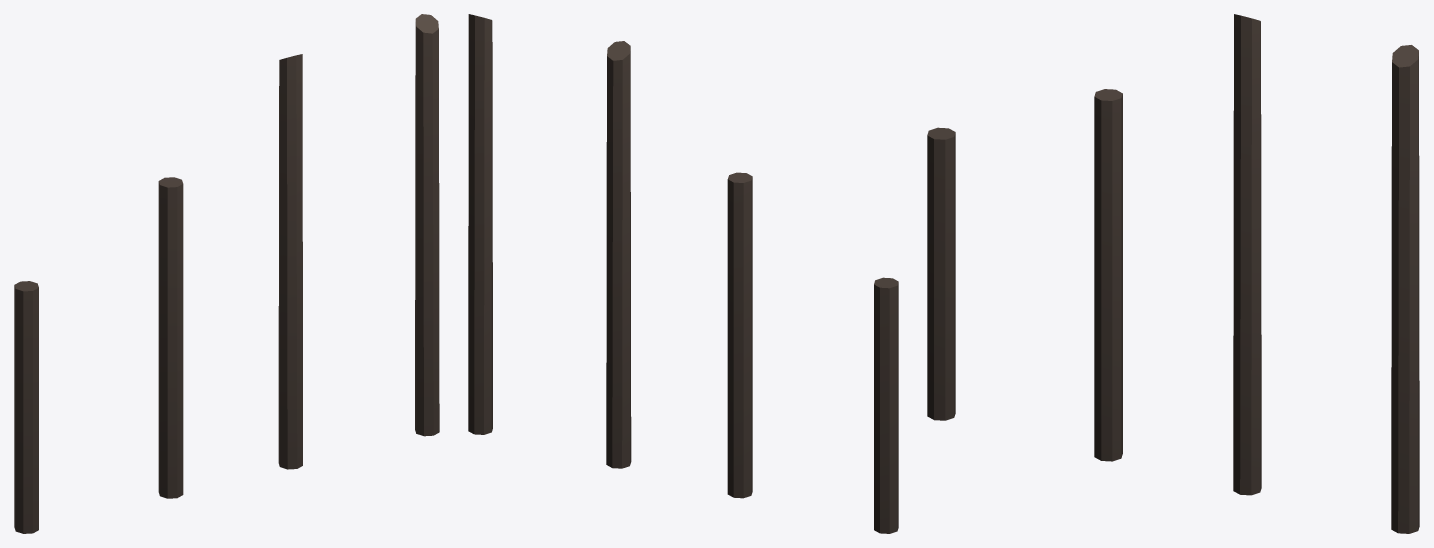
Rendered from Bridge2.fbx.
3 renders of one model, left to right at view 1: azimuth 30°, elevation 25°; view 2: azimuth 150°, elevation 25°; view 3: azimuth 330°, elevation 25°, orthographic. The views are drawn at different scales.
Parts seen in each view (by area): view 1: Cylinder.001, Cylinder, Cylinder.002, Cylinder.003; view 2: Cylinder, Cylinder.001, Cylinder.002, Cylinder.003; view 3: Cylinder.001, Cylinder, Cylinder.002, Cylinder.003.
Part boxes in pixels (x1,y1,x2,y2): Cylinder.001: [415, 14, 439, 436]; Cylinder: [278, 54, 302, 469]; Cylinder.002: [158, 177, 183, 498]; Cylinder.003: [14, 281, 38, 533]; Cylinder: [606, 41, 631, 468]; Cylinder.001: [468, 14, 492, 434]; Cylinder.002: [727, 172, 752, 498]; Cylinder.003: [874, 277, 898, 533]; Cylinder.001: [1391, 45, 1419, 533]; Cylinder: [1233, 14, 1261, 495]; Cylinder.002: [1094, 89, 1122, 461]; Cylinder.003: [927, 127, 955, 420].
Bounding box in the file's own units: 575 × 538 × 30.
1 material, 1 textured.
